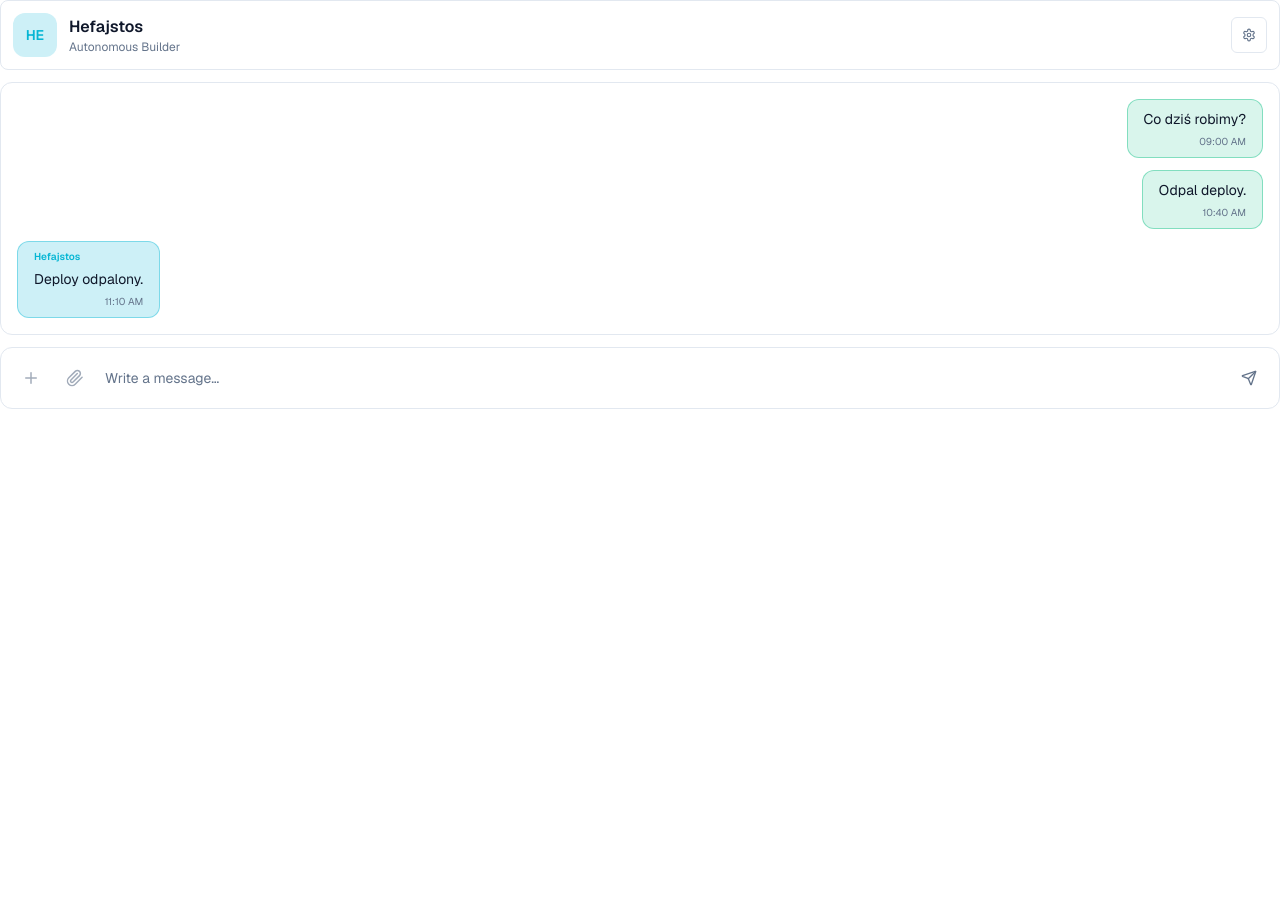
it: ConversationFeed › opens the settings modal when the header gear button is clicked
Expected: the heading "Hefajstos" is shown, [69,16,143,37]
Click the button named "Open settings": point(1249, 35) [1231,17,1267,53]
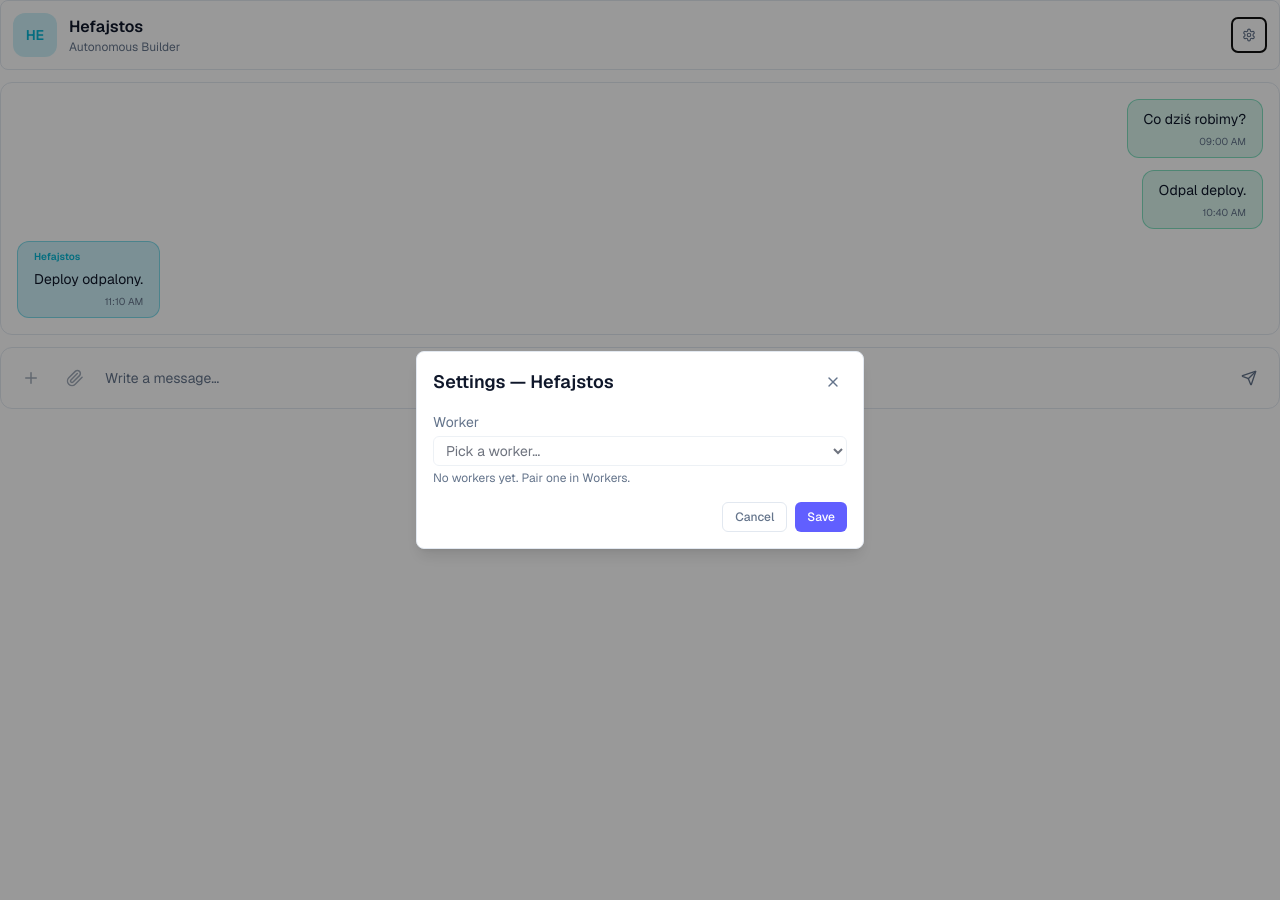
Expected: the dialog is shown
Expected: the text "Worker" is shown, [433,413,479,431]
